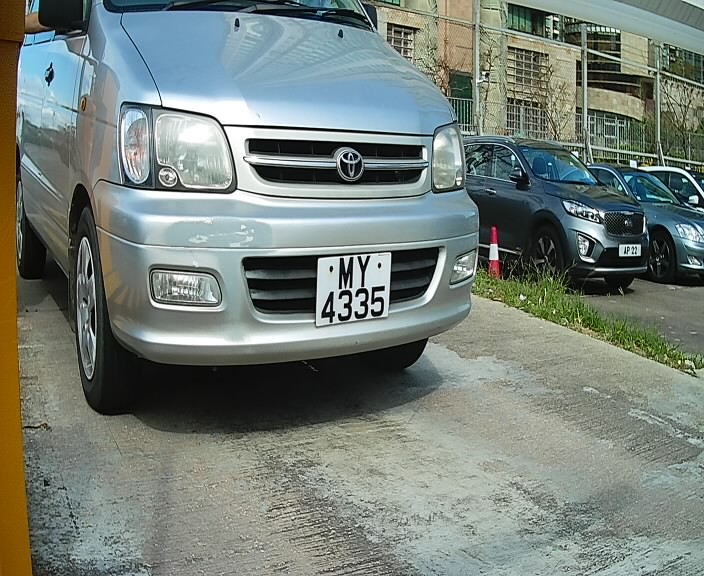License Plate: (314, 242, 398, 330)
